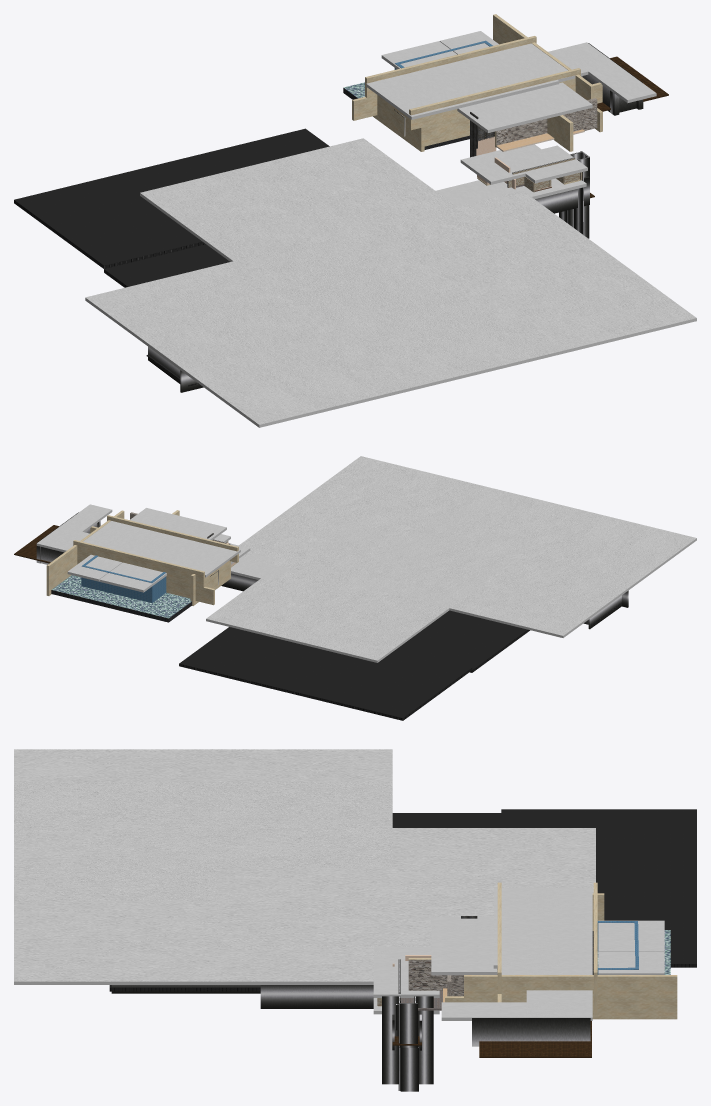
File: level3.FBX
3 renders of one model, top to bottom at view 1: azimuth 30°, elevation 25°; view 2: azimuth 150°, elevation 25°; view 3: azimuth 270°, elevation 25°, orthographic. The views are drawn at different scales.
Visible parts, largest first — view 1: sufit056, sufit058, sufit057, sufit059, Box668, Box667, Object047, sufit021, Object046, sufit045, sufit042, sufit043 (+24 smaller); view 2: sufit057, sufit058, sufit056, Box668, sufit059, Box667, Box666, Wall003, Object039, Object050, Object040, Box582 (+15 smaller); view 3: sufit056, sufit058, sufit059, sufit057, Box668, Wall007, Object042, Object043, Object036, Box667, sufit042, sufit021 (+36 smaller).
Boxes of the visible parts, x1,y1,x2,y2 form: sufit056: (140,138,536,315); sufit058: (147,245,542,412); sufit057: (299,190,696,375); sufit059: (85,262,482,427); Box668: (14,128,329,268); Box667: (104,244,229,287); Object047: (409,88,495,130); sufit021: (597,71,656,103); Object046: (419,117,469,147); sufit045: (457,101,516,132); sufit042: (535,82,592,114); sufit043: (507,90,565,121); sufit057: (239,456,531,595); sufit058: (344,485,649,626); sufit056: (206,521,510,662); Box668: (179,627,472,720); sufit059: (431,501,696,637); Box667: (397,610,529,672); Box666: (52,575,191,618); Wall003: (81,555,166,602); Object039: (138,556,204,587); Object050: (73,540,139,565); Object040: (166,578,214,605); Box582: (51,590,191,622); sufit056: (217,828,595,946); sufit058: (14,782,392,900); sufit059: (14,749,392,867); sufit057: (14,863,390,984); Box668: (501,809,696,967); Wall007: (260,985,394,1050); Object042: (570,975,677,997); Object043: (464,975,570,997); Object036: (592,998,677,1019); Box667: (392,813,501,827); sufit042: (431,956,497,975); sufit021: (441,1002,507,1020).
Bounding box in the file's own units: 23136 × 4497 × 20180.
Materials: 22 (20 with a texture image).
